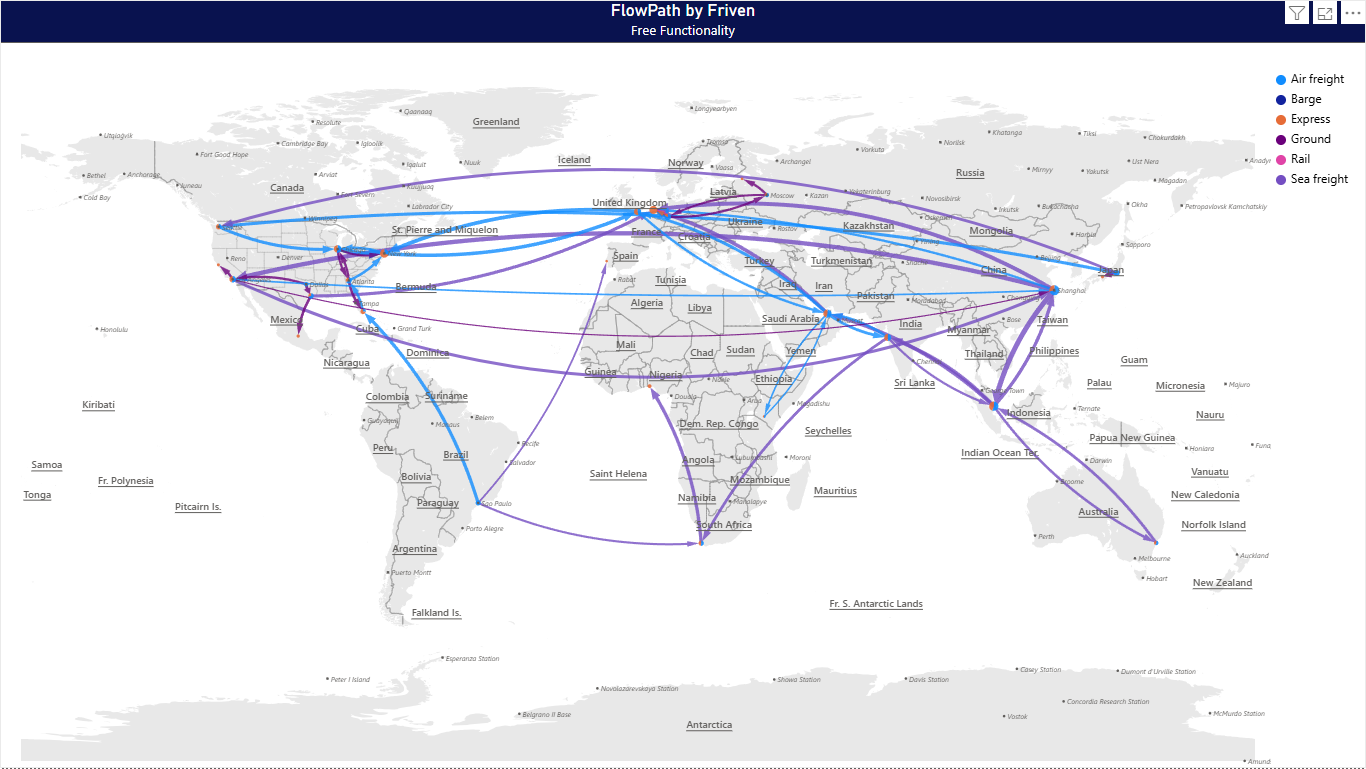

The page's visual inventory and layout, read from the dashboard file:
{"tool":"powerbi","page":{"name":"Basic Flow Map","canvas":[1366,768],"ordinal":0},"visuals":[{"type":"flowMap094E8B8E0C644C80B88BA54992D66F39","title":"Flow Map by Friven","fields":{"origin":["sample-data.Origin"],"originLatitude":["sample-data.OriginLat"],"originLongitude":["sample-data.OriginLon"],"originSize":["Sum(sample-data.OriginShipments)"],"destination":["sample-data.Destination"],"destLatitude":["sample-data.DestLat"],"destLongitude":["sample-data.DestLon"],"destinationSize":["Sum(sample-data.DestShipments)"],"value":["Sum(sample-data.ArrowThickness)"],"legend":["sample-data.Category"]},"box":[0,0,1366,768],"z":0}]}

Visuals, with their boxes in screenshot pixels (x1, y1, x2, y2), scaled from the page's 1366x768 canvas onto the 1366x769 screenshot:
"Flow Map by Friven" flowMap094E8B8E0C644C80B88BA54992D66F39: 0, 0, 1365, 768
